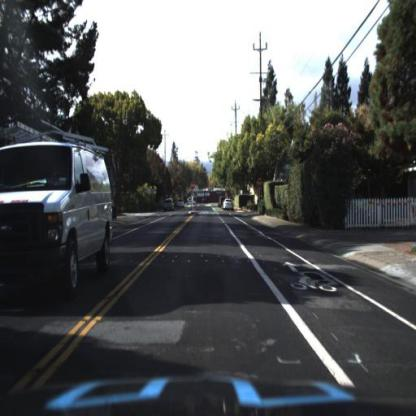car: (223, 195, 235, 213)
